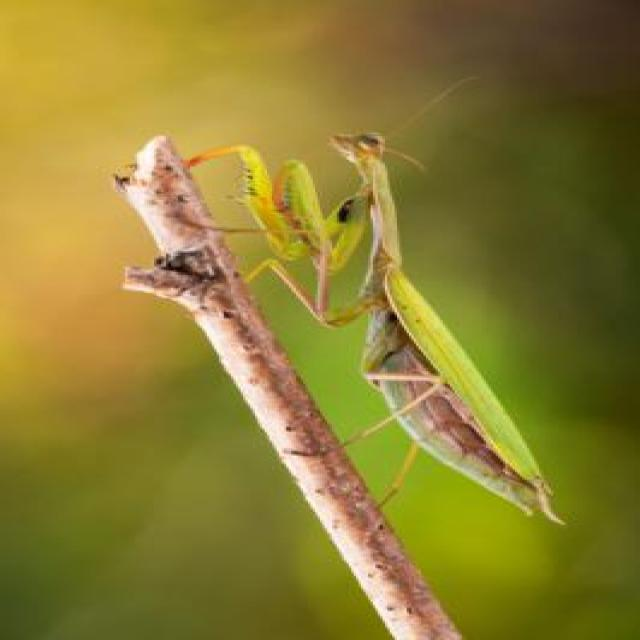antennae: (388, 78, 474, 142), (381, 147, 426, 173)
body: (327, 129, 556, 513)
insect: (157, 78, 569, 530)
legs: (179, 147, 370, 273), (310, 318, 442, 454), (266, 157, 379, 270), (230, 258, 388, 322), (362, 441, 427, 509)
mouthpart: (325, 129, 351, 156)
wings: (385, 266, 552, 482)
